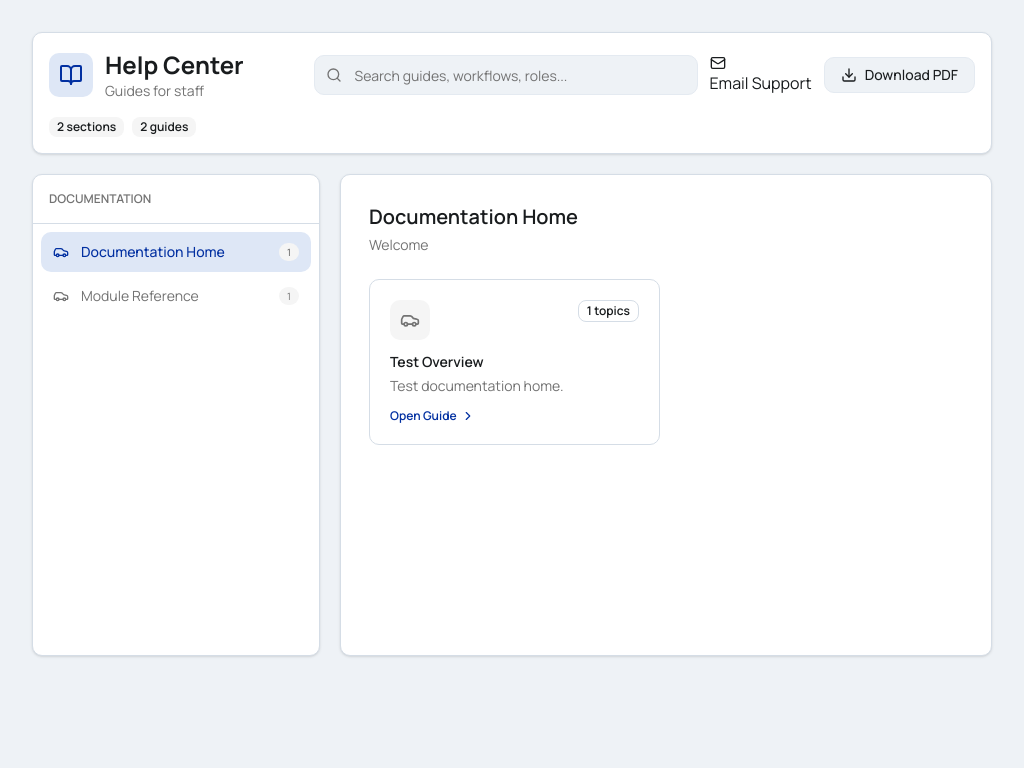
Test: HelpCenter › filters guides and can clear empty searches
In the search field named "Search help topics": x=506, y=75 314,55 -> 698,95, type "missing topic xyz"
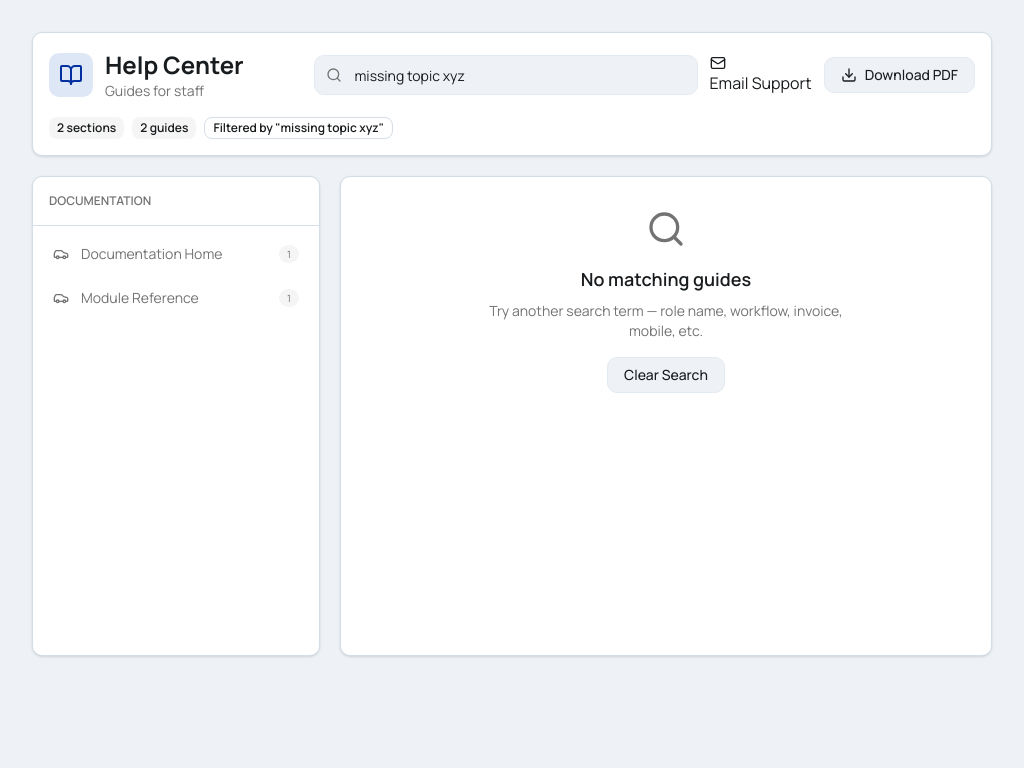
Expected: the heading "No matching guides" is shown, 581,265 -> 751,293
Click the button "Clear Search": x=666, y=375 607,357 -> 725,393
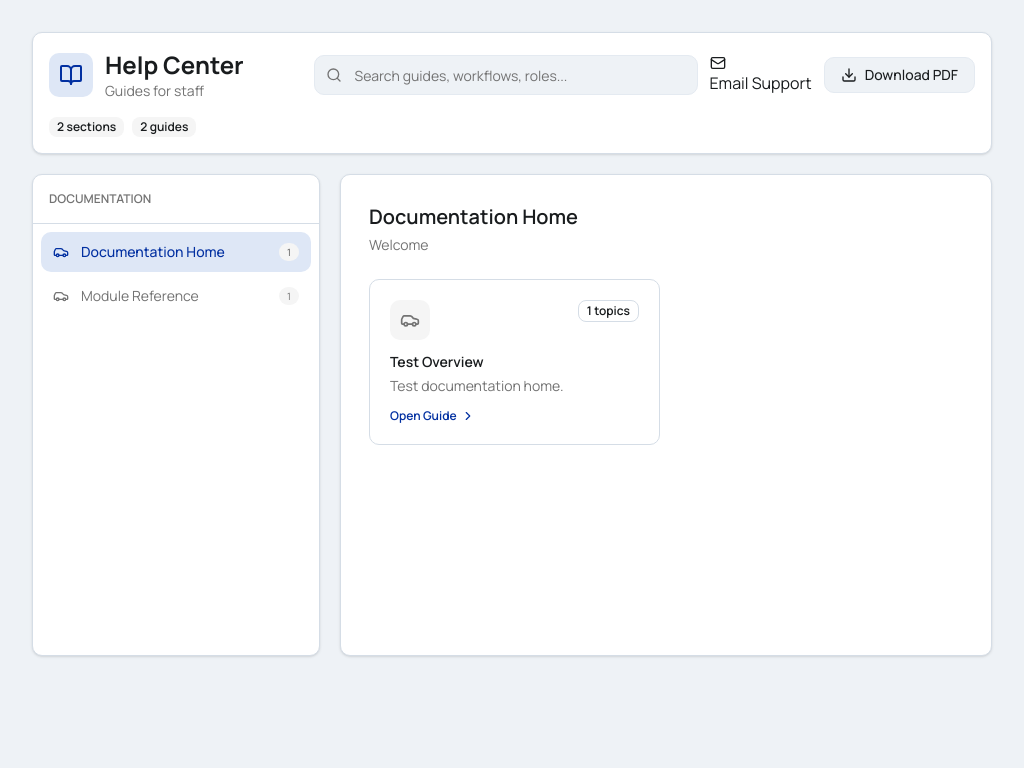
Expected: the heading "Test Overview" is shown, 390,352 -> 484,371
In the search field named "Search help topics": x=506, y=75 314,55 -> 698,95, type "profile"
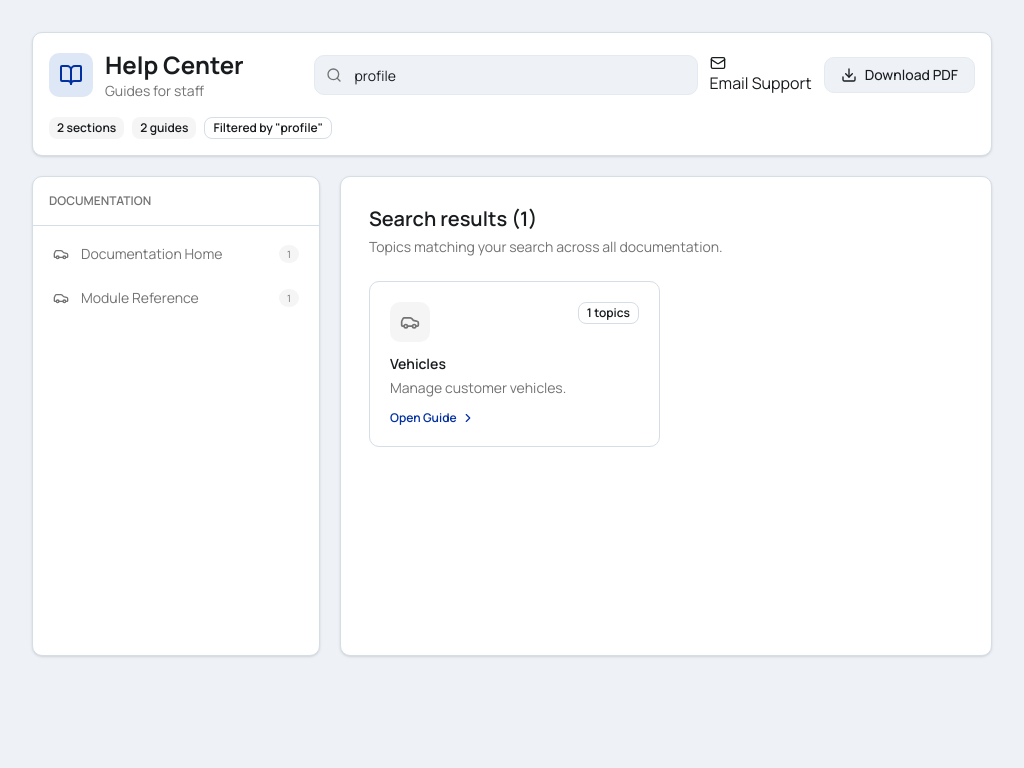
Expected: the heading "Vehicles" is shown, 390,354 -> 446,373
